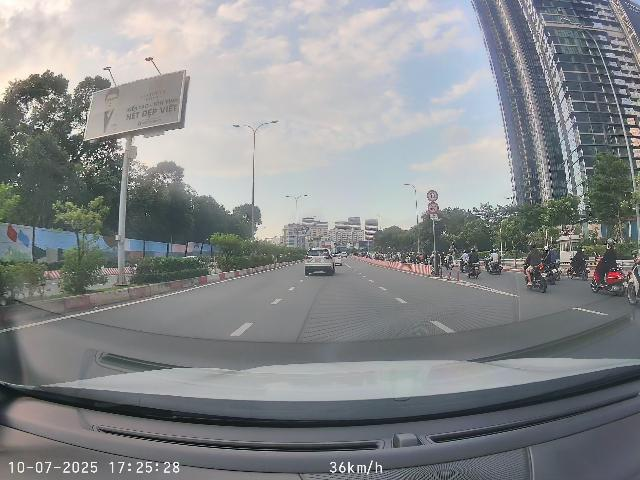127-toc-do-toi-da-70: (427, 190, 438, 201)
